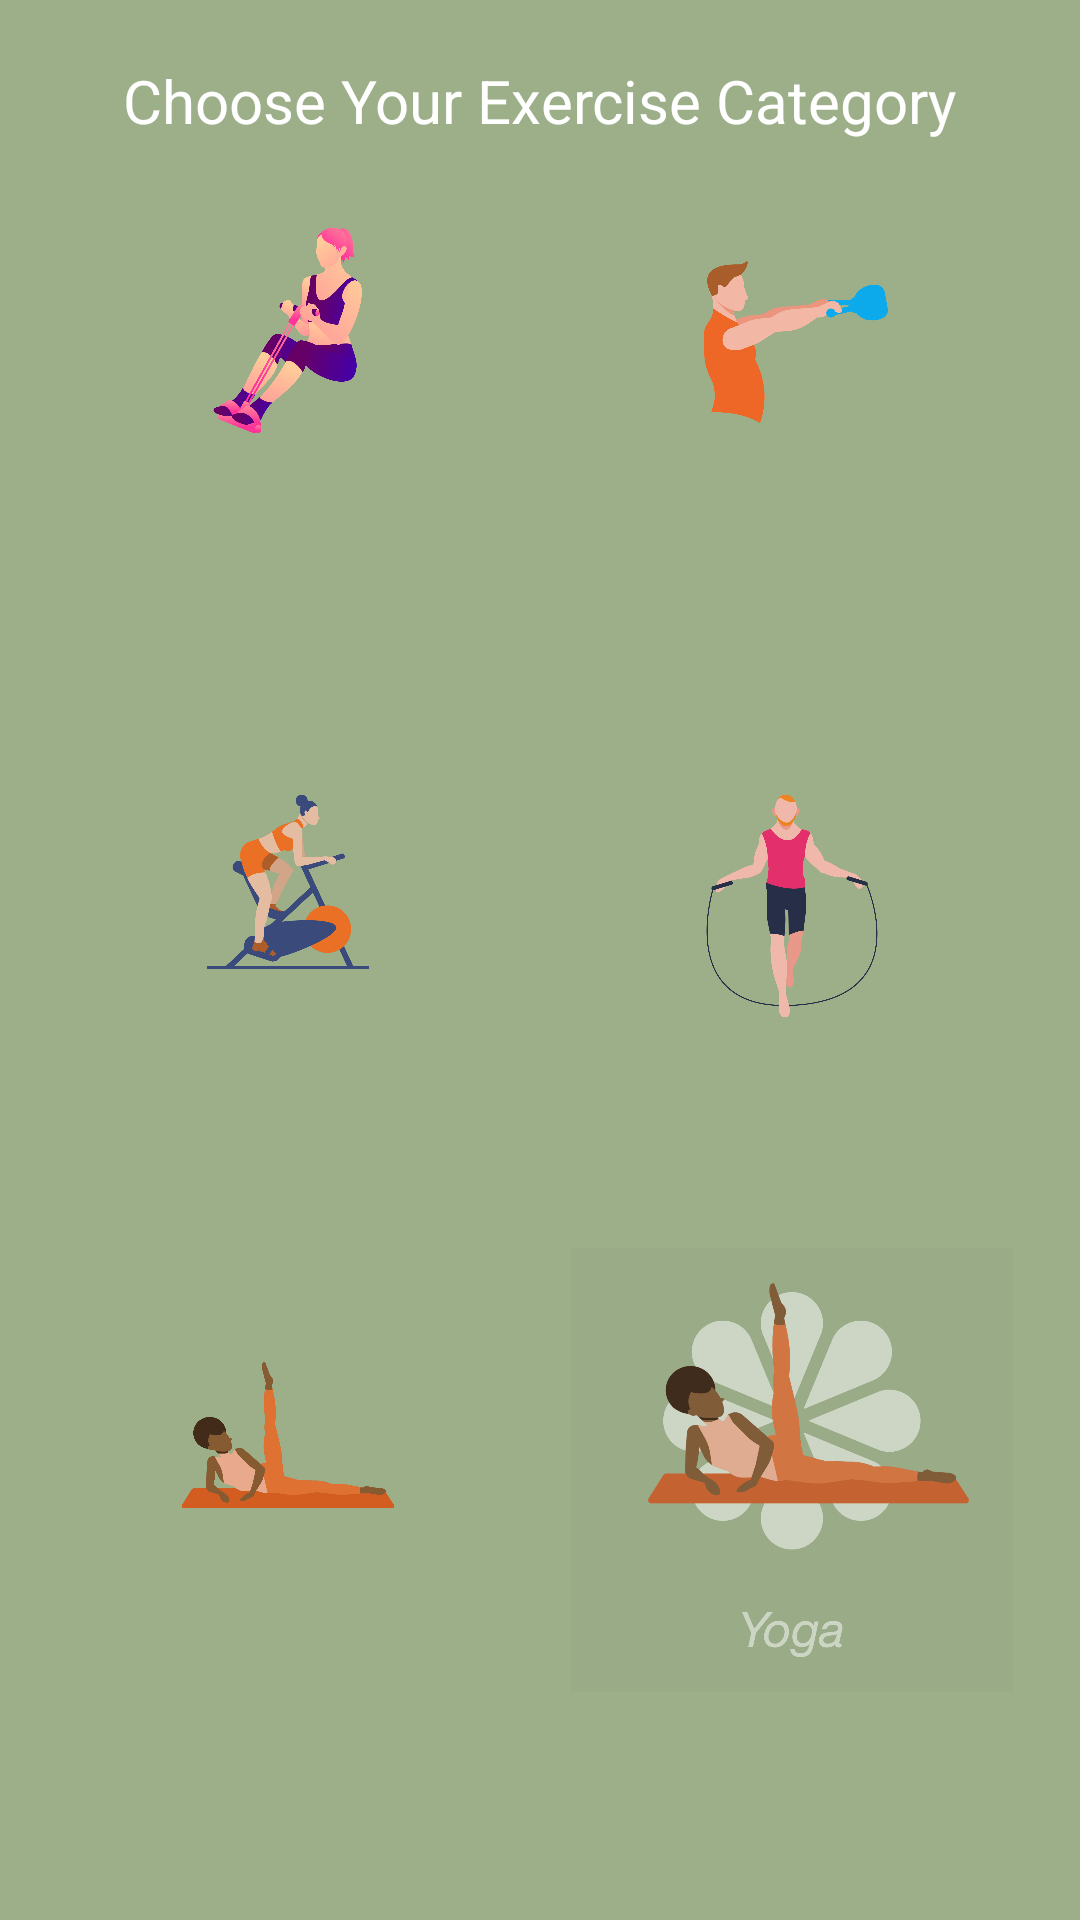

Named icons in this screenshot (1080×1920) and their centers, [x,y]:
bike: [288,882]
cardio: [792,906]
weights: [796,342]
